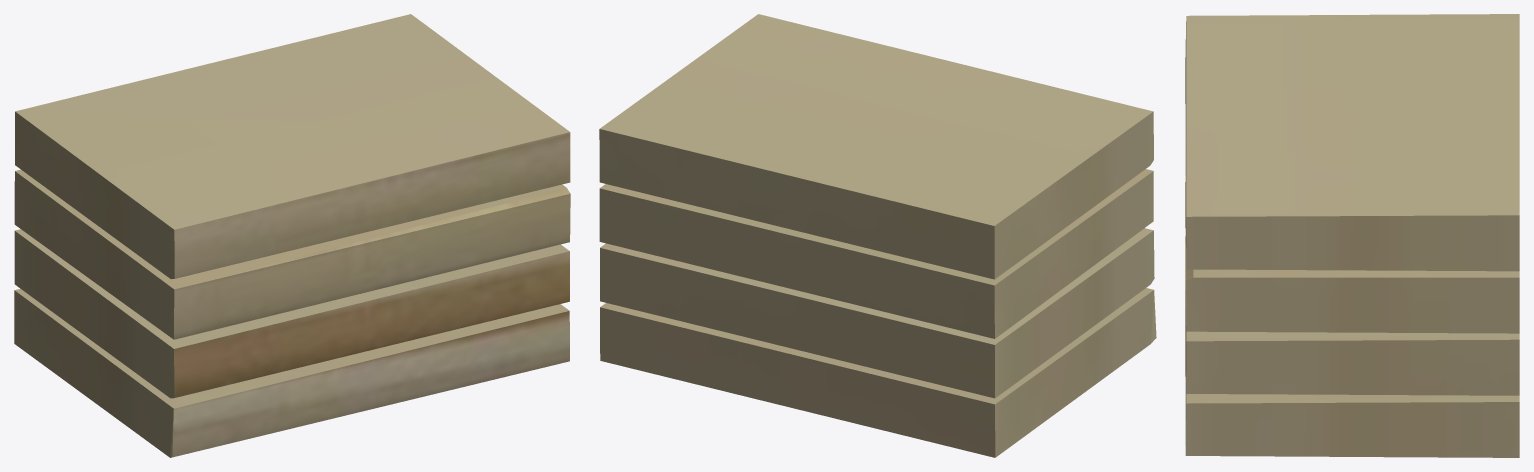
The model's file is book3_h4.dae.
The picture shows the model from 3 angles, left to right: view 1: azimuth 30°, elevation 25°; view 2: azimuth 150°, elevation 25°; view 3: azimuth 270°, elevation 25°; orthographic projection. The views are drawn at different scales.
Visible parts, largest first — view 1: node; view 2: node; view 3: node.
Part boxes in pixels (bbox=[...]): node: bbox=[14, 14, 570, 457]; node: bbox=[599, 14, 1156, 457]; node: bbox=[1185, 14, 1519, 457].
Bounding box in the file's own units: 0.1729 × 0.0966 × 0.1202.
Materials: 1 (1 with a texture image).
